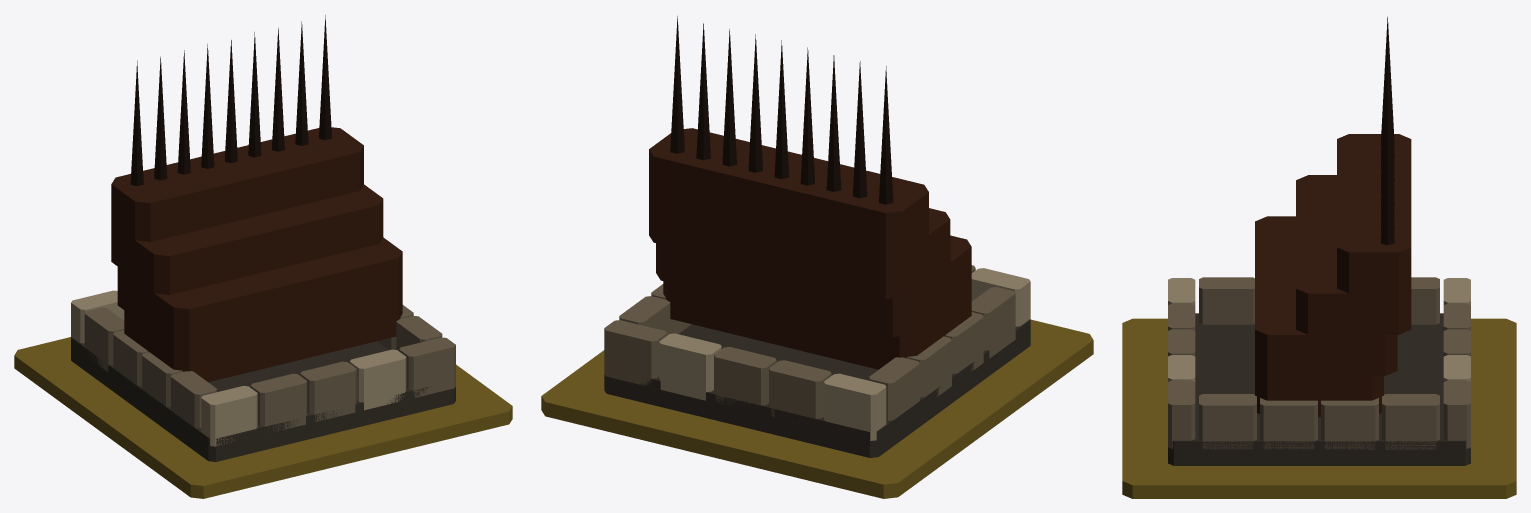
The model's file is rampart_t2.glb.
3 renders of one model, left to right at view 1: azimuth 30°, elevation 25°; view 2: azimuth 150°, elevation 25°; view 3: azimuth 270°, elevation 25°, orthographic. The views are drawn at different scales.
Visible parts, largest first — view 1: MMR | rampart | T02 Architecture.001, MMR | rampart | Tier 02 Ground.001; view 2: MMR | rampart | T02 Architecture.001, MMR | rampart | Tier 02 Ground.001; view 3: MMR | rampart | T02 Architecture.001, MMR | rampart | Tier 02 Ground.001.
Boxes of the visible parts, x1=… form: MMR | rampart | T02 Architecture.001: x1=71, y1=15, x2=455, y2=461; MMR | rampart | Tier 02 Ground.001: x1=14, y1=337, x2=512, y2=498; MMR | rampart | T02 Architecture.001: x1=604, y1=16, x2=1030, y2=457; MMR | rampart | Tier 02 Ground.001: x1=541, y1=319, x2=1093, y2=498; MMR | rampart | T02 Architecture.001: x1=1168, y1=16, x2=1470, y2=465; MMR | rampart | Tier 02 Ground.001: x1=1122, y1=318, x2=1516, y2=498.
Size of the model in its own units: 1.3 by 1.29 by 1.3.
1 material, 1 textured.
